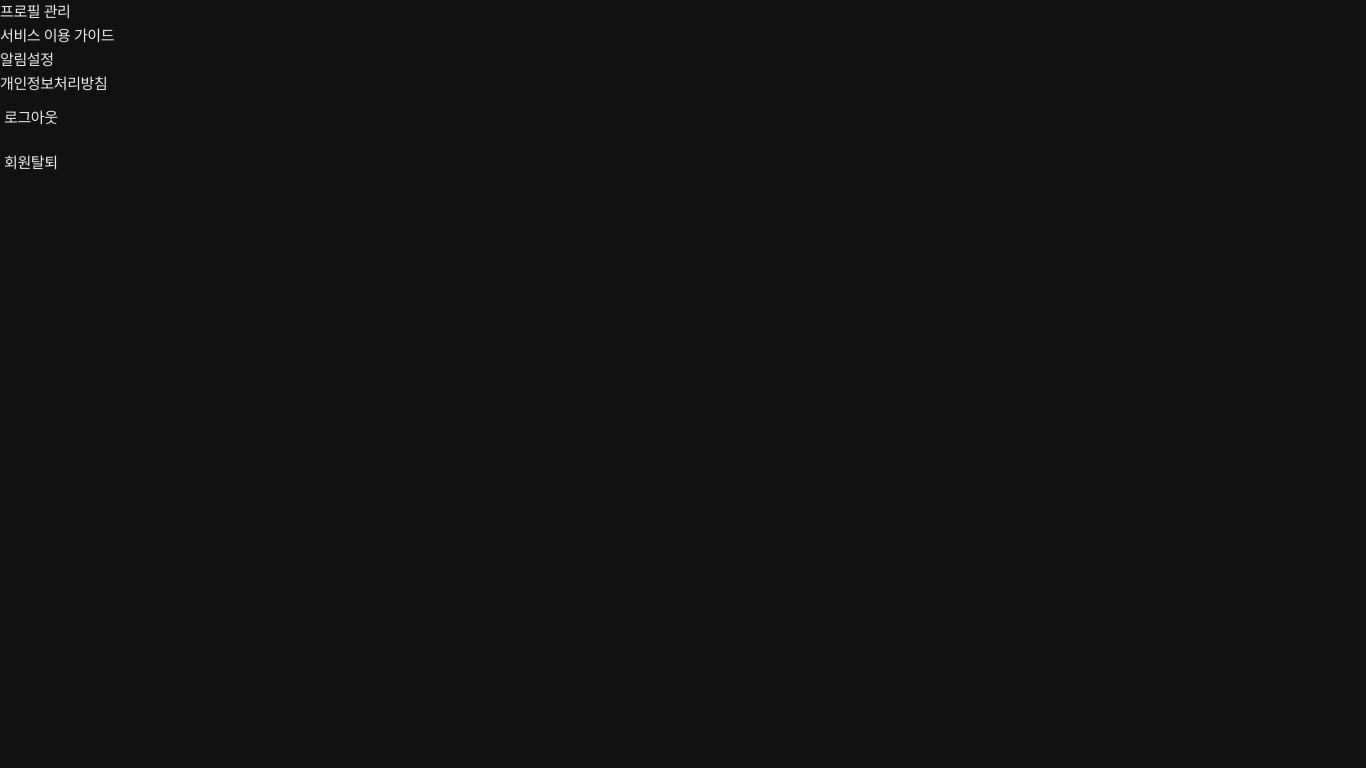
Test: MenuSection › 로그아웃 모달에서 취소하기 클릭 시 모달이 닫힌다
Click the button "로그아웃" at point(31, 118), box [0,96,1365,141]
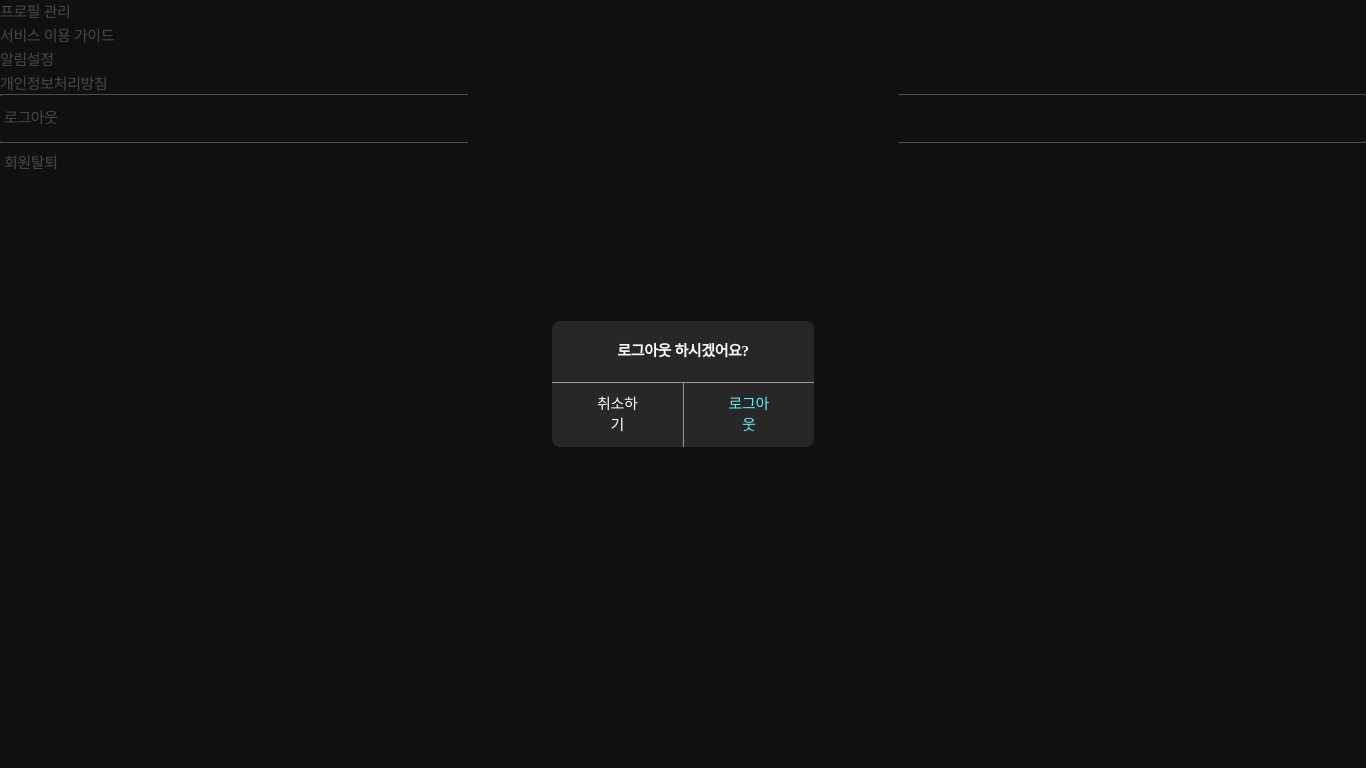
Click the button "취소하기" at point(618, 414), box [552,382,684,447]
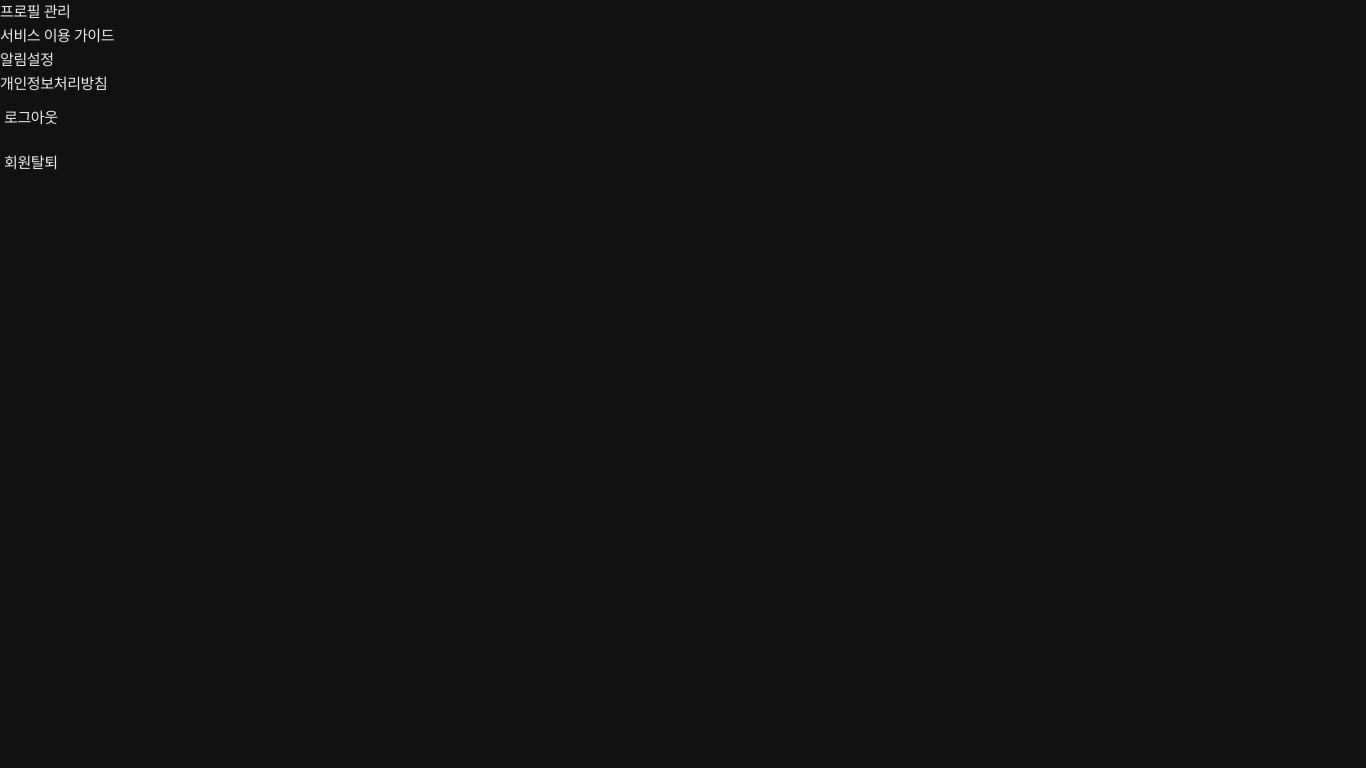
Now the text "로그아웃 하시겠어요?" is gone
